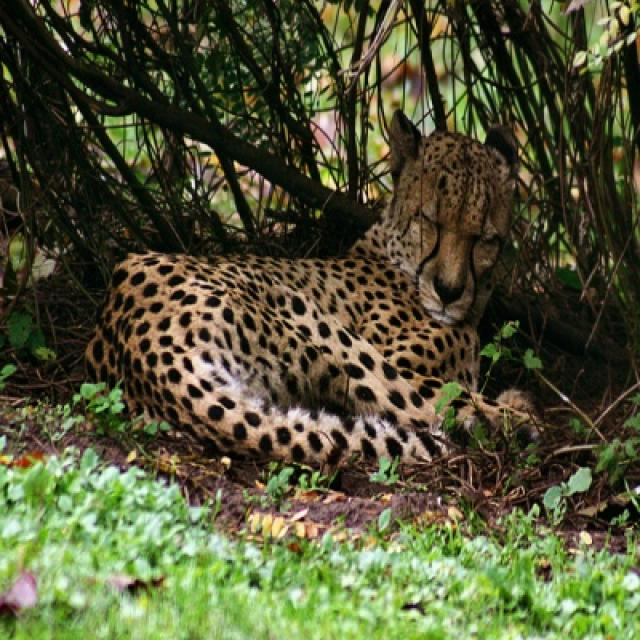Cheetah: (88, 102, 556, 455)
